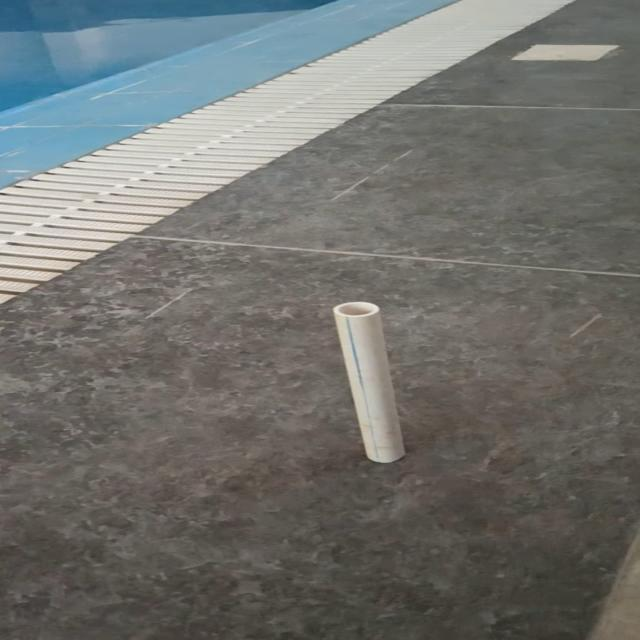Cube: (331, 301, 406, 464)
